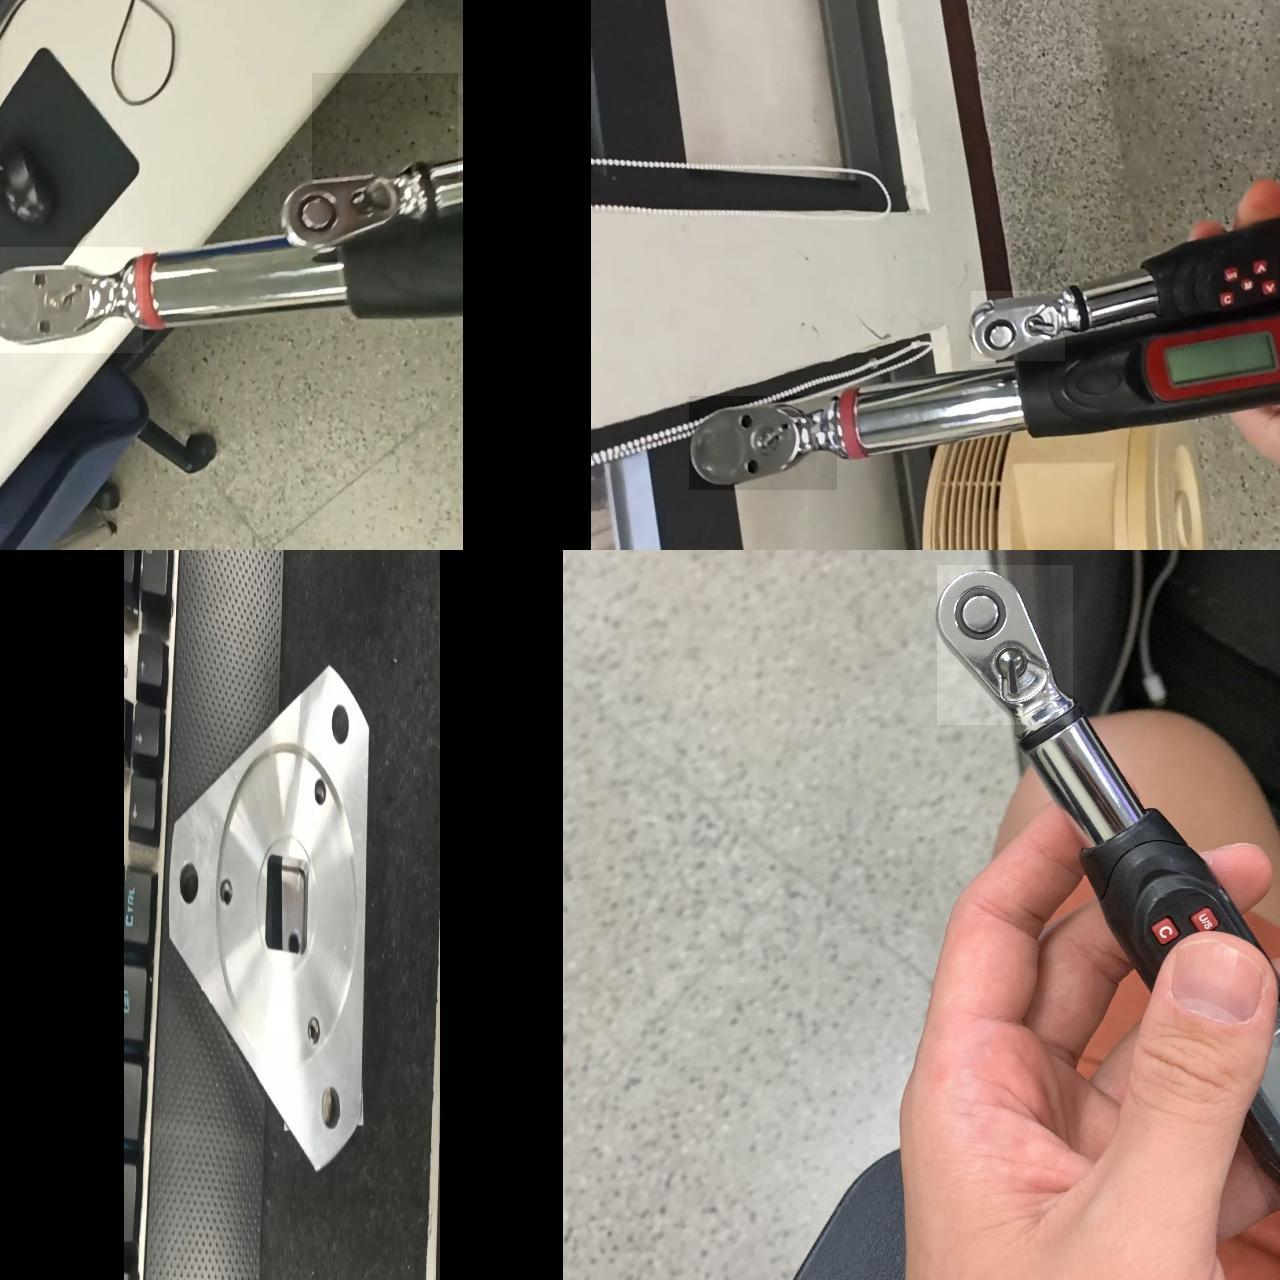Tool: (937, 565, 1073, 726), (311, 73, 457, 179), (0, 247, 142, 353), (688, 396, 836, 490), (971, 291, 1064, 361)
